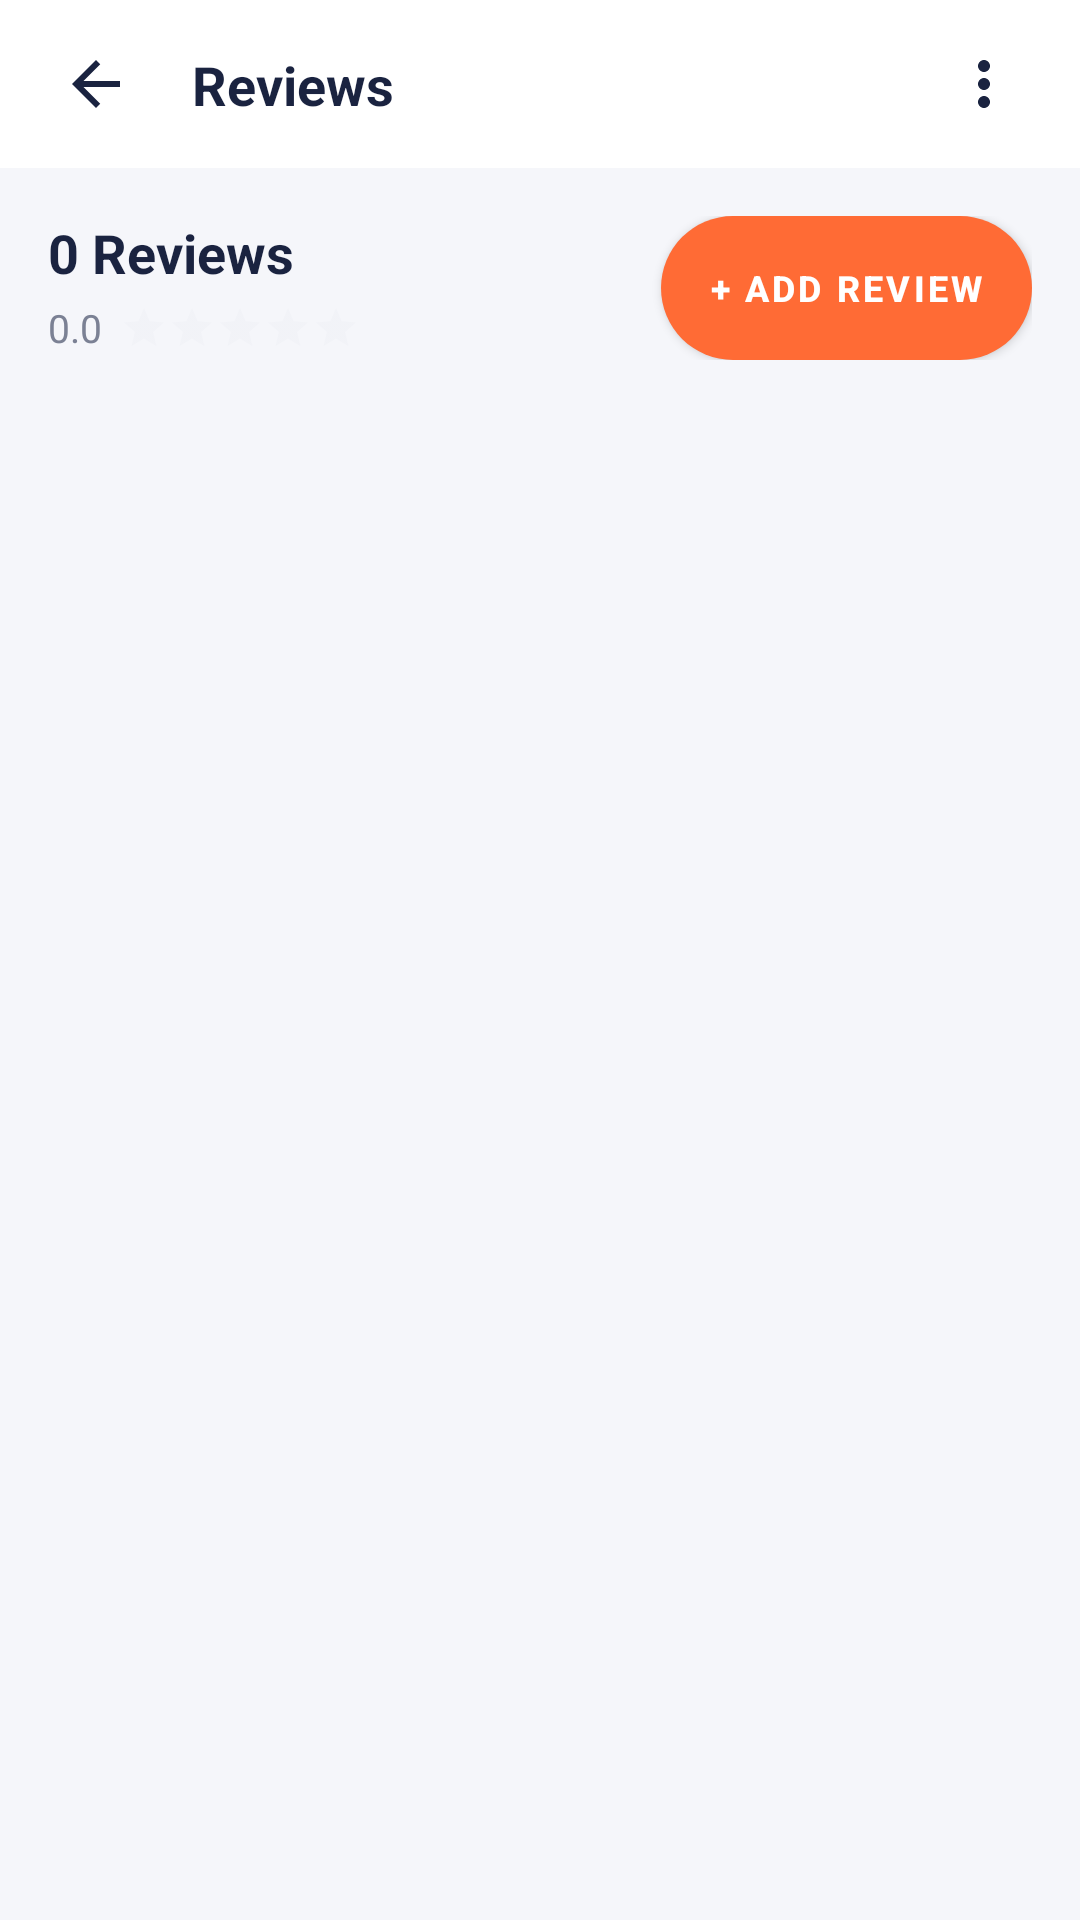

Screen size 1080 × 1920. Icon name, then its box in pixels as (x1, y1, x2, y2):
Back: (72, 60, 120, 108)
Menu: (978, 60, 990, 108)
